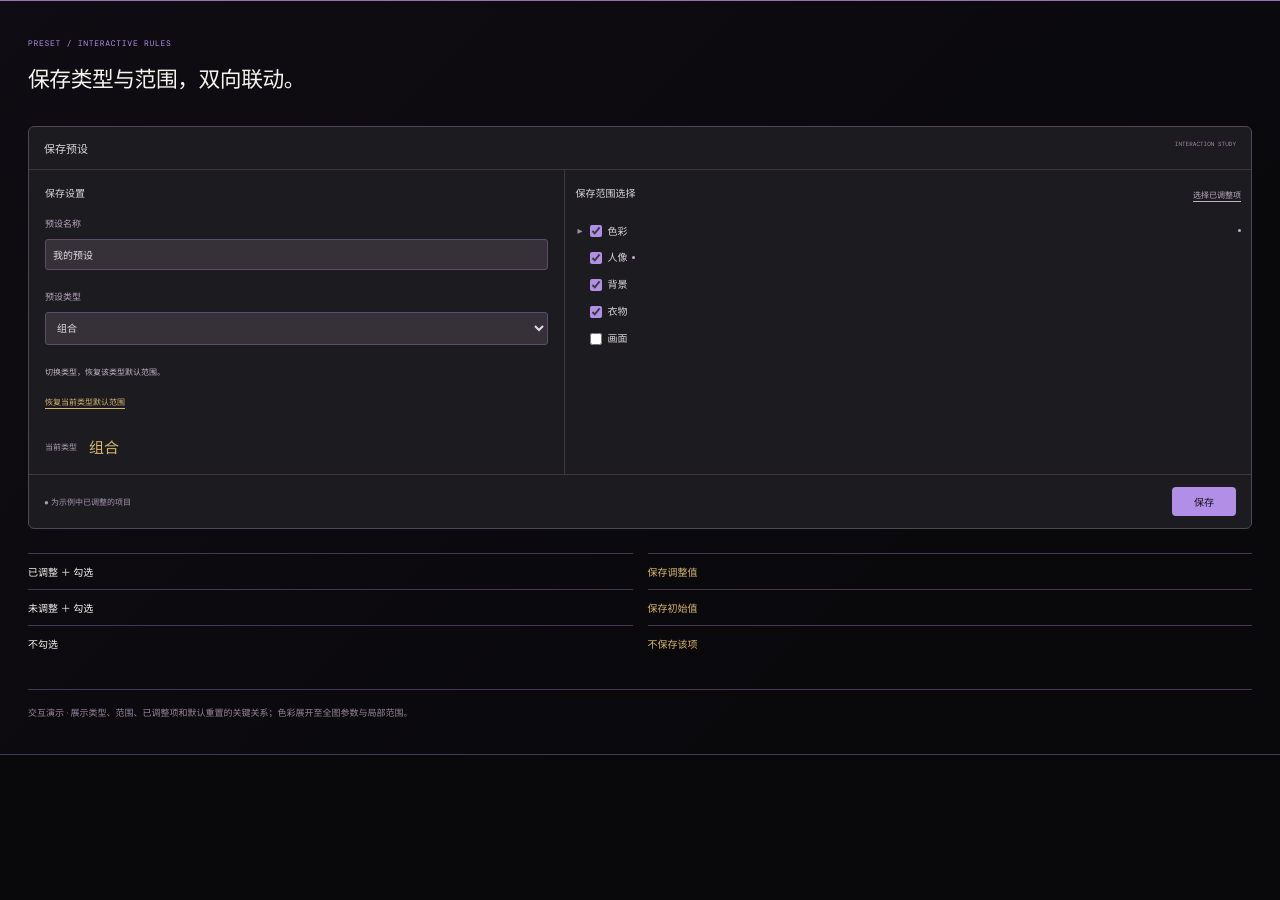
Test: preset scope rules from the PRD › selecting adjusted items checks only the changed leaves, with a partial parent
Click the button "选择已调整项": (1217, 194) [1193,189,1241,200]
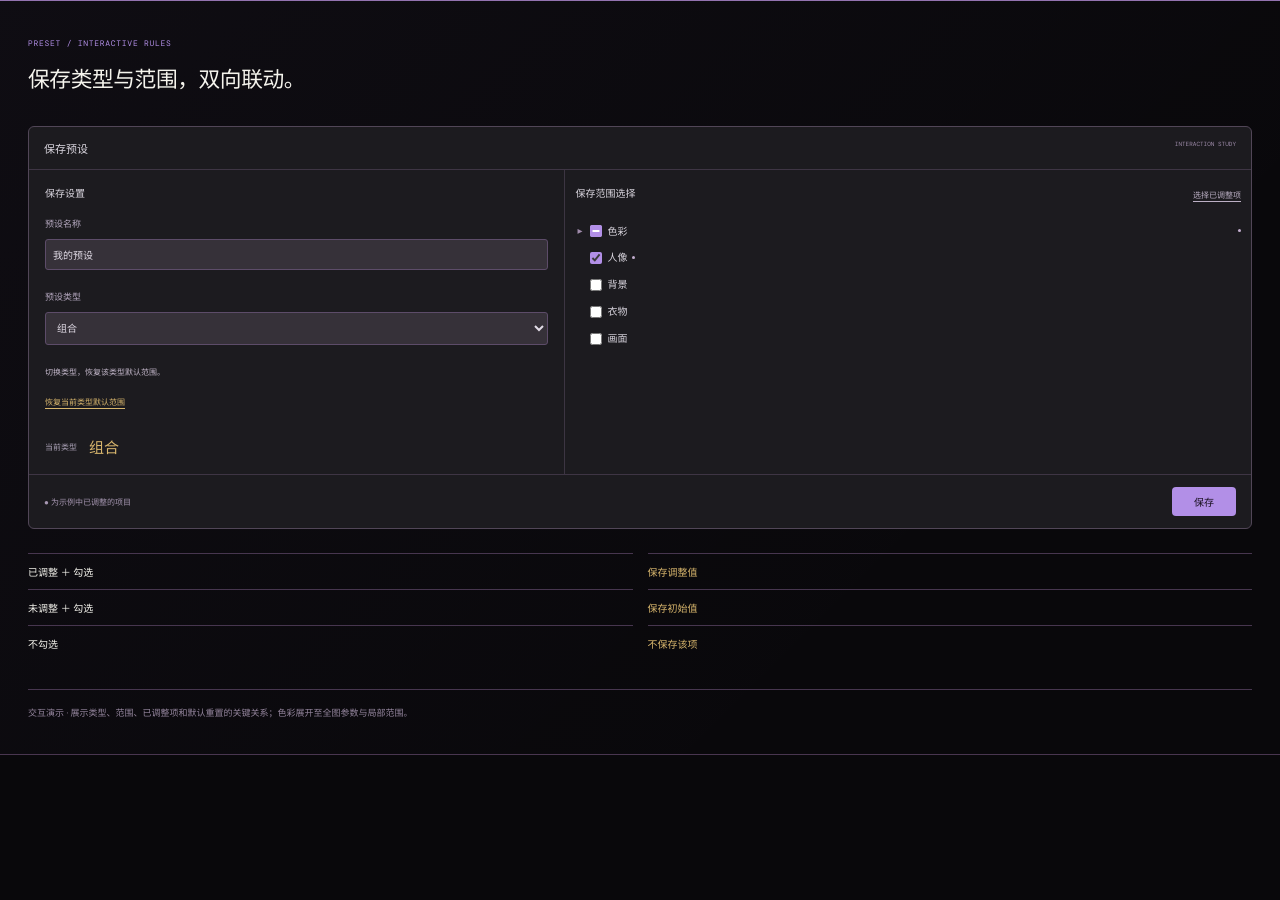
Now the checkbox named "保存色彩范围" is not checked, box [590,225,602,237]
Click the button "▸ 色彩": (617, 232) [608,217,1233,244]
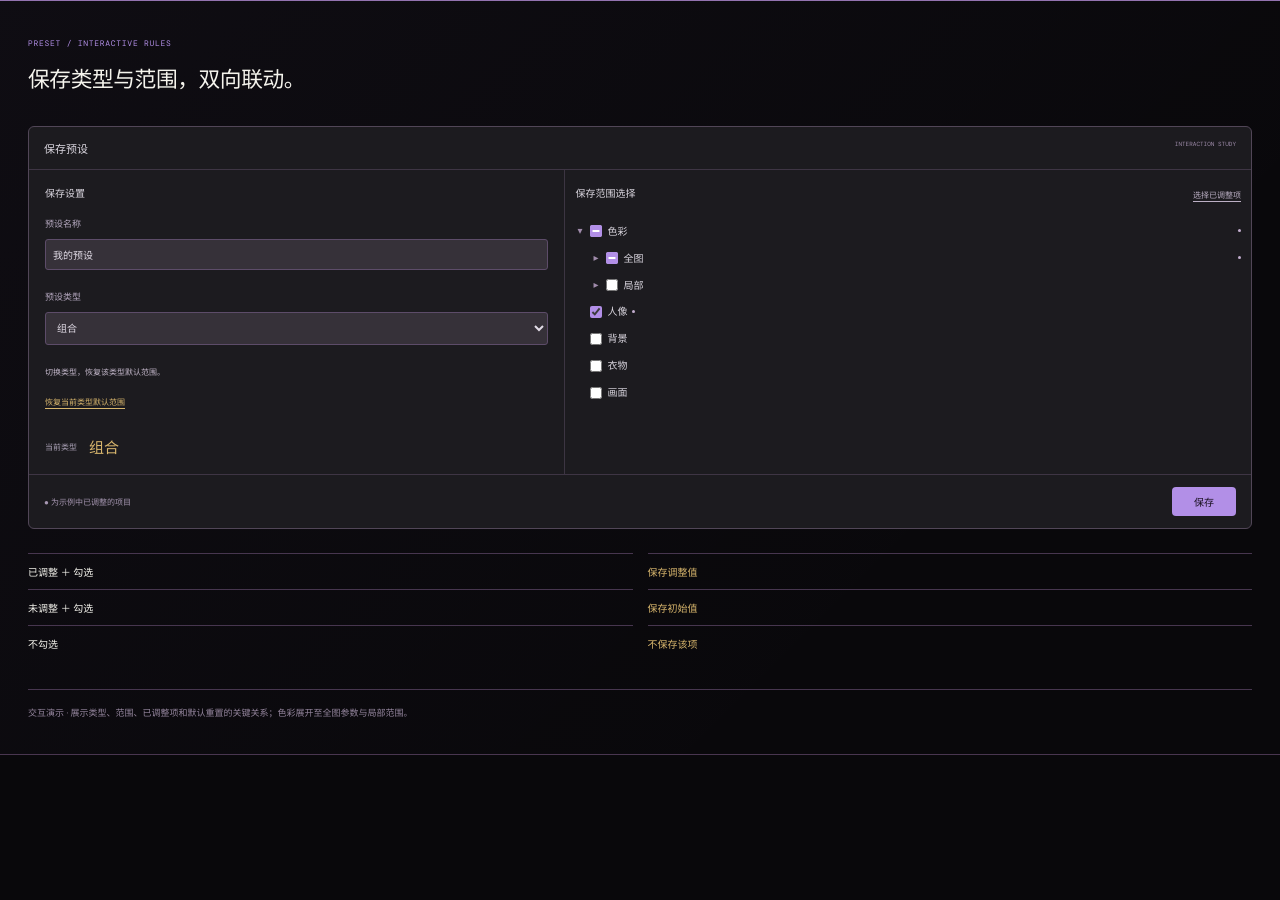
Click the button "▸ 全图": (633, 259) [624,244,1233,271]
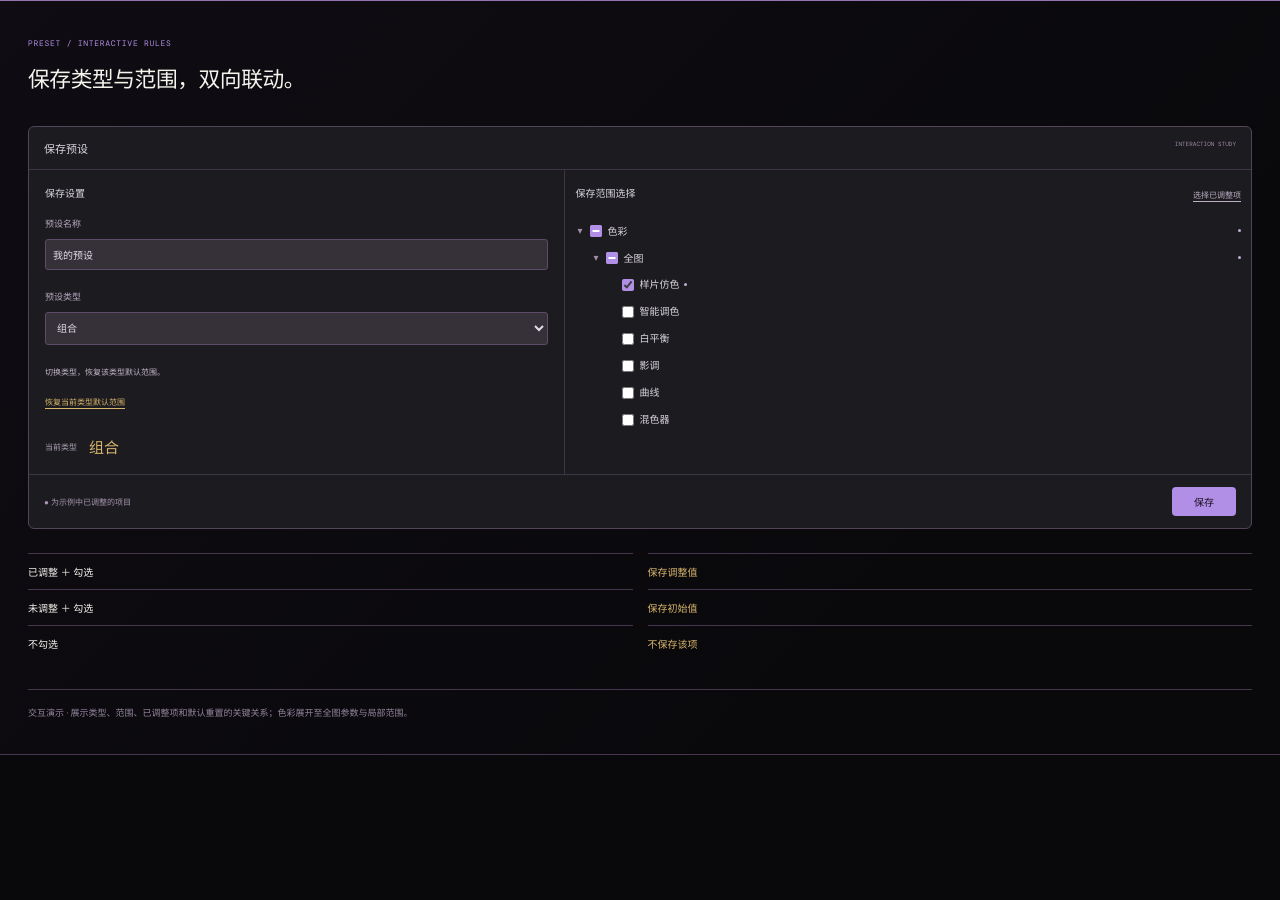
Now the checkbox named "保存智能调色范围" is not checked, box [622,306,634,318]
Now the checkbox named "保存样片仿色范围" is checked, box [622,279,634,291]
